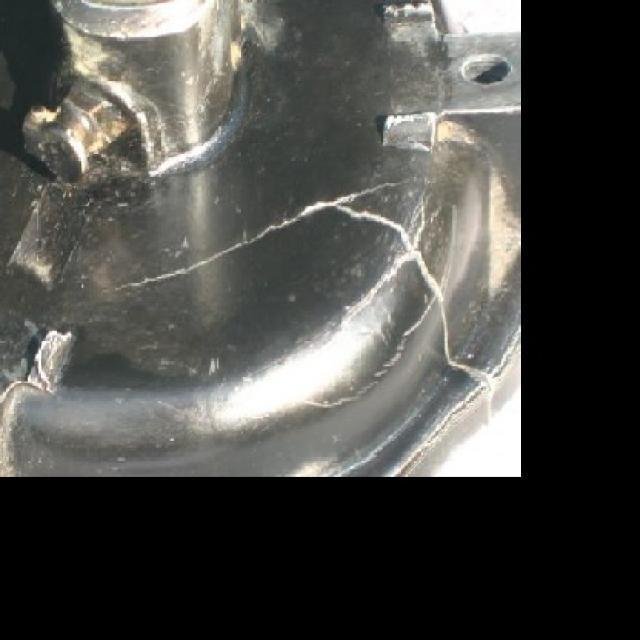crack: (231, 205, 325, 250), (126, 254, 223, 290), (336, 205, 410, 244), (329, 183, 394, 200), (438, 297, 454, 362), (416, 249, 439, 294)
